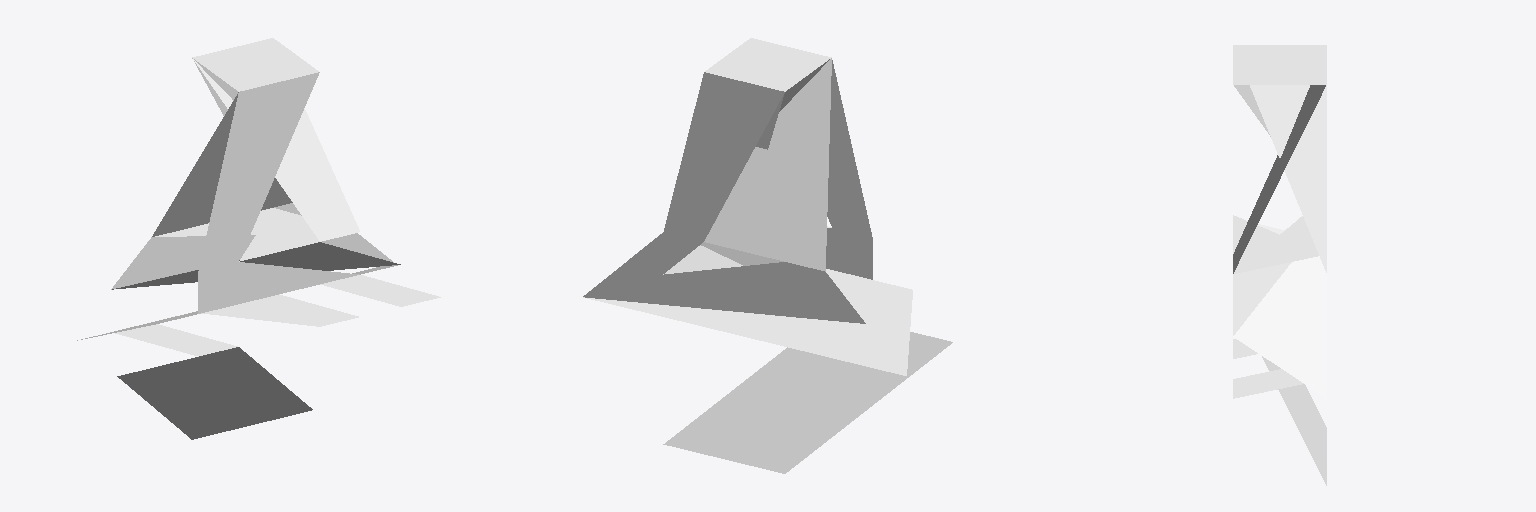
File: sightscopeboost.obj
3 views of the same model, side by side, from view 1: azimuth 30°, elevation 25°; view 2: azimuth 150°, elevation 25°; view 3: azimuth 270°, elevation 25° (orthographic).
Size of the model in its own units: 8 by 9 by 2.